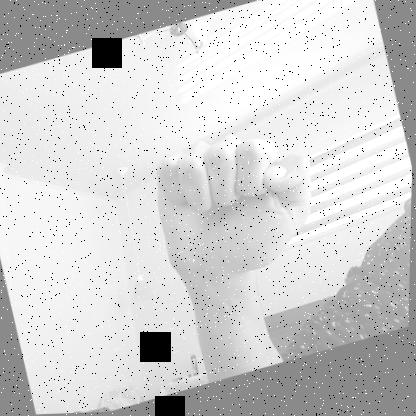A: (141, 113, 329, 292)
